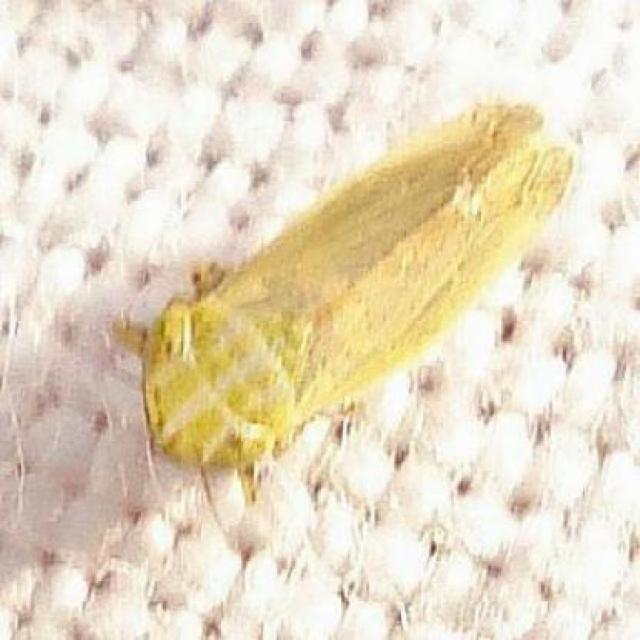green-leafhopper: (148, 98, 590, 498)
